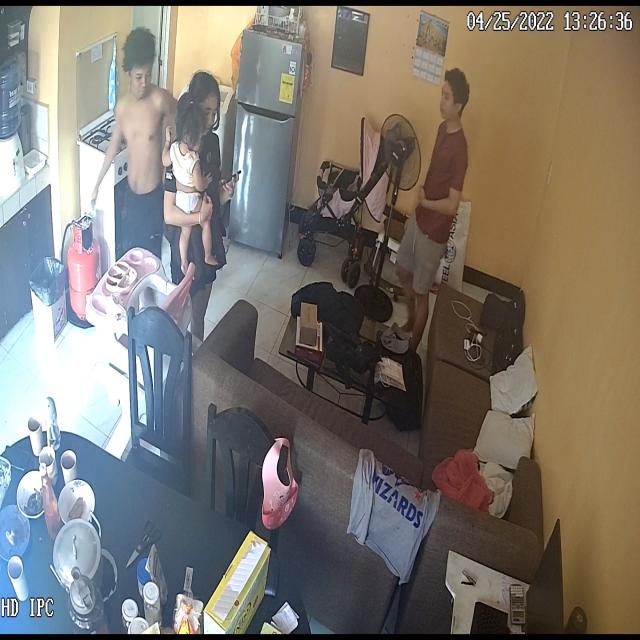adult: (92, 26, 208, 319), (391, 59, 469, 355), (160, 65, 238, 348)
child: (160, 100, 220, 282)
